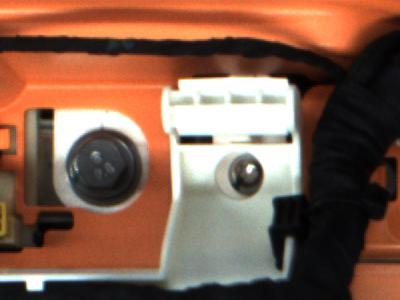nut_b: (62, 129, 151, 208)
